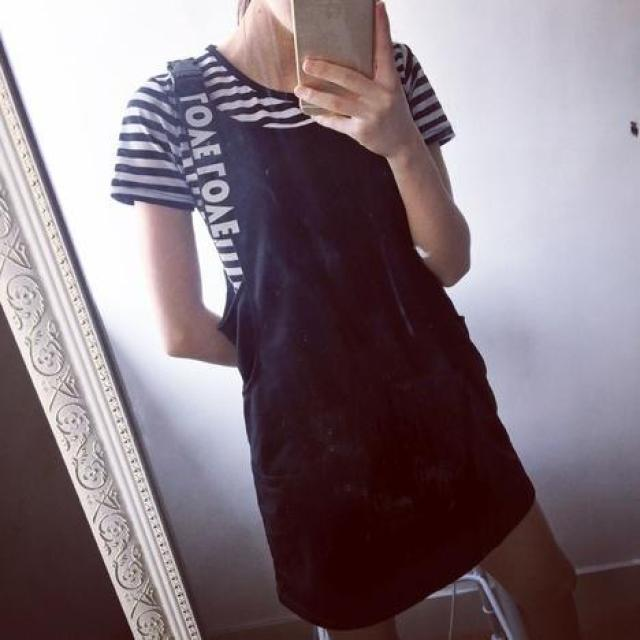short-sleeve-dress: (112, 45, 560, 592)
